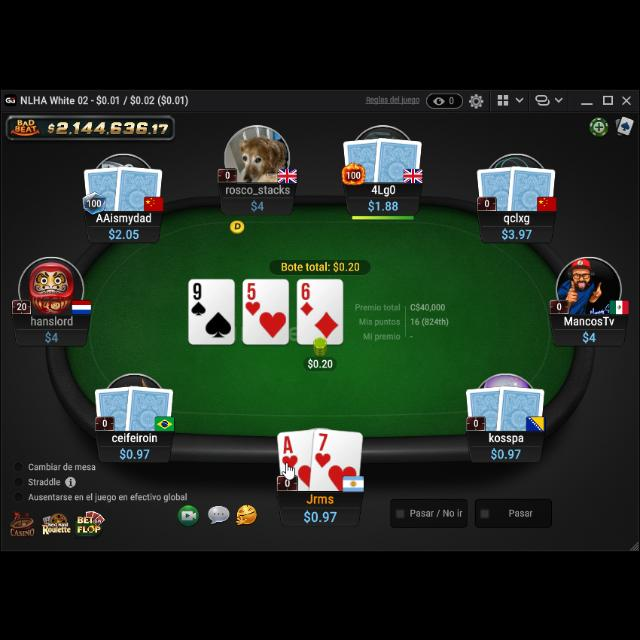5h: (245, 278, 262, 314)
6d: (298, 279, 314, 315)
7h: (314, 429, 332, 467)
9s: (190, 279, 207, 317)
Ah: (282, 432, 298, 468)
bet_text: (306, 354, 334, 368)
card_back: (496, 379, 546, 429), (124, 380, 174, 430), (373, 132, 423, 182), (114, 160, 164, 210), (507, 160, 557, 210), (82, 161, 126, 209), (342, 134, 384, 180), (476, 162, 518, 208), (94, 382, 134, 428), (465, 381, 505, 427)
dealer: (228, 215, 246, 232)
pot_text: (280, 258, 360, 270)
stack_text: (304, 505, 338, 523), (108, 222, 140, 240), (501, 223, 533, 240), (367, 195, 399, 209), (490, 445, 522, 459), (118, 444, 150, 458), (250, 195, 266, 209), (582, 326, 596, 340), (44, 328, 60, 340)
